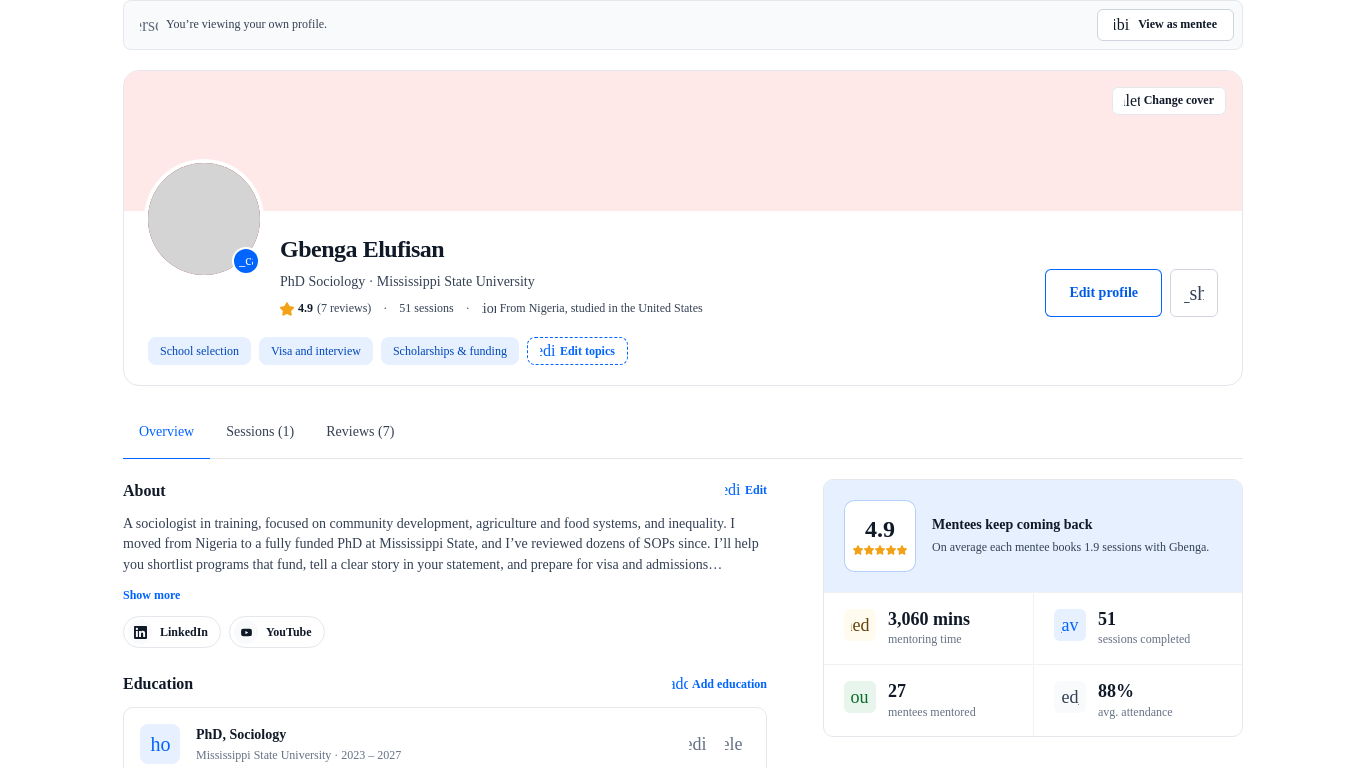
Test: MentorProfileScreen — the owner’s photo › "Remove photo" asks first; "Keep it" keeps it, "Remove photo" removes it (FE #98)
Click the button with aria-label "Photo options" at (246, 261), box x1=234 y1=249 x2=258 y2=273
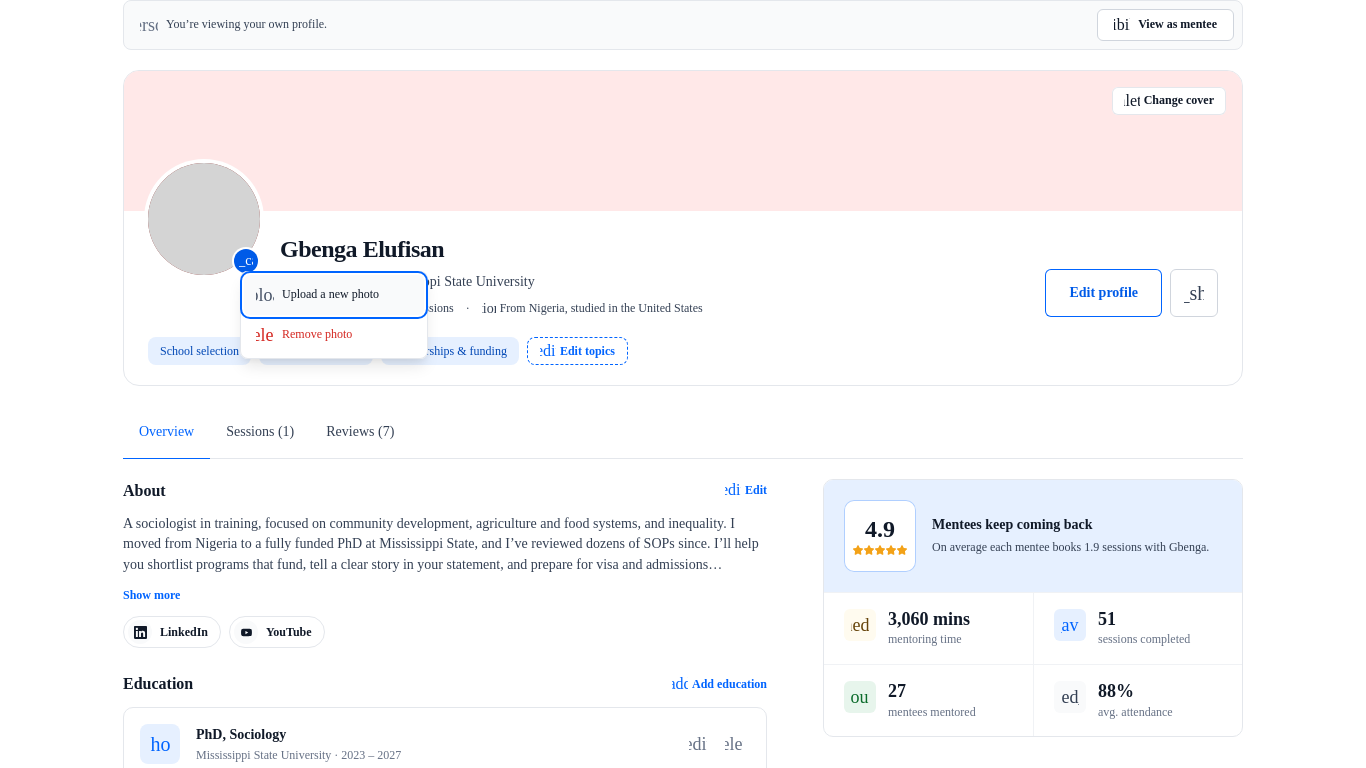
Click the menu item "delete Remove photo" at (334, 335), box x1=244 y1=315 x2=424 y2=355
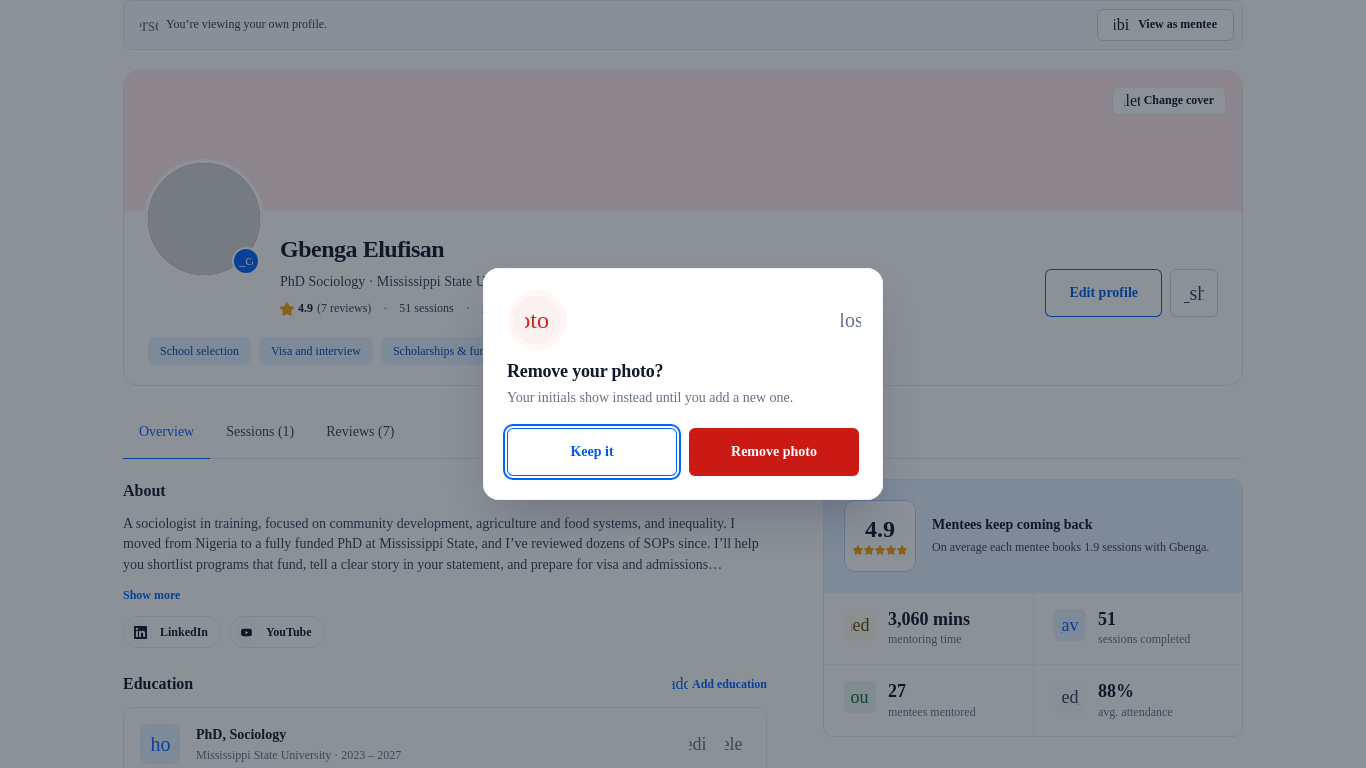
expect the dialog "Remove your photo?" shows "Your initials show instead until you add a new one.": met, box x1=507 y1=390 x2=793 y2=404
Click the button "Keep it" at (592, 452), box x1=507 y1=428 x2=677 y2=476
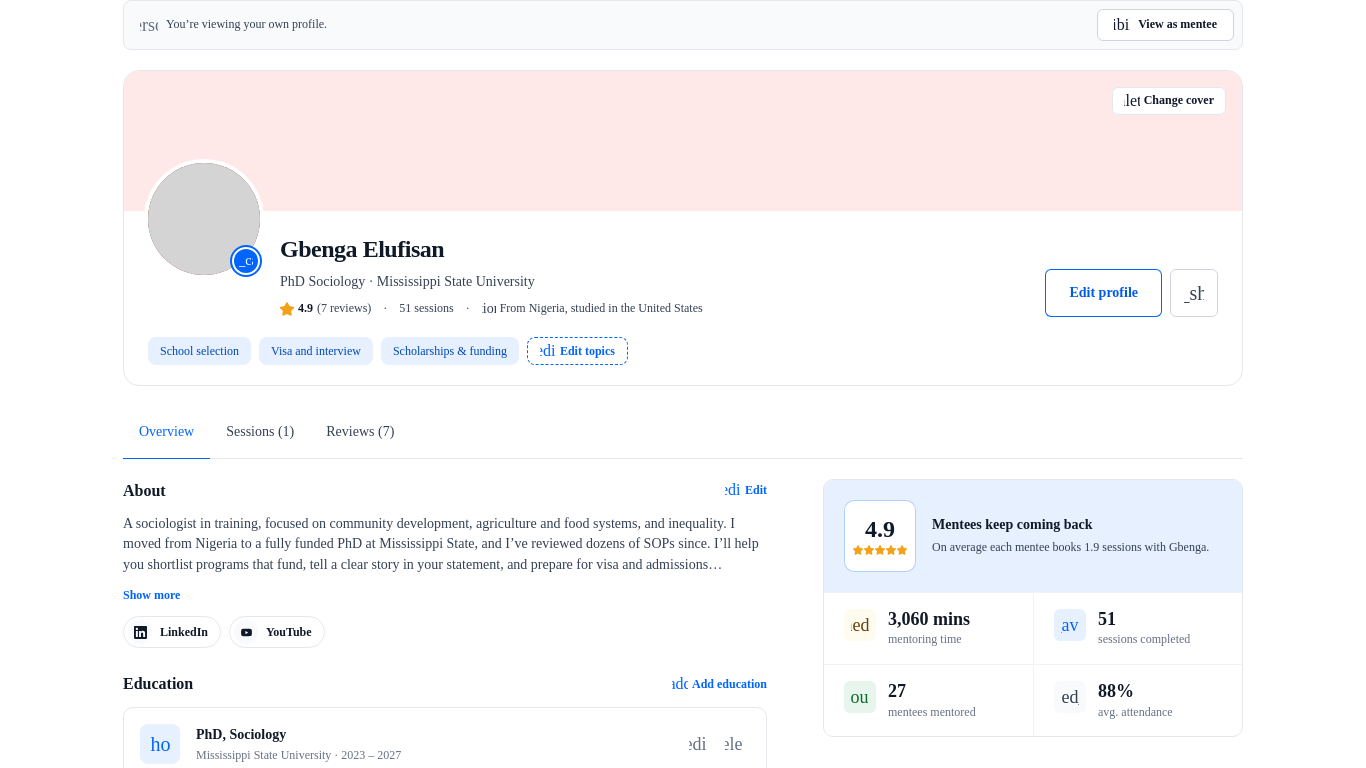
Click the button with aria-label "Photo options" at (246, 261), box x1=234 y1=249 x2=258 y2=273
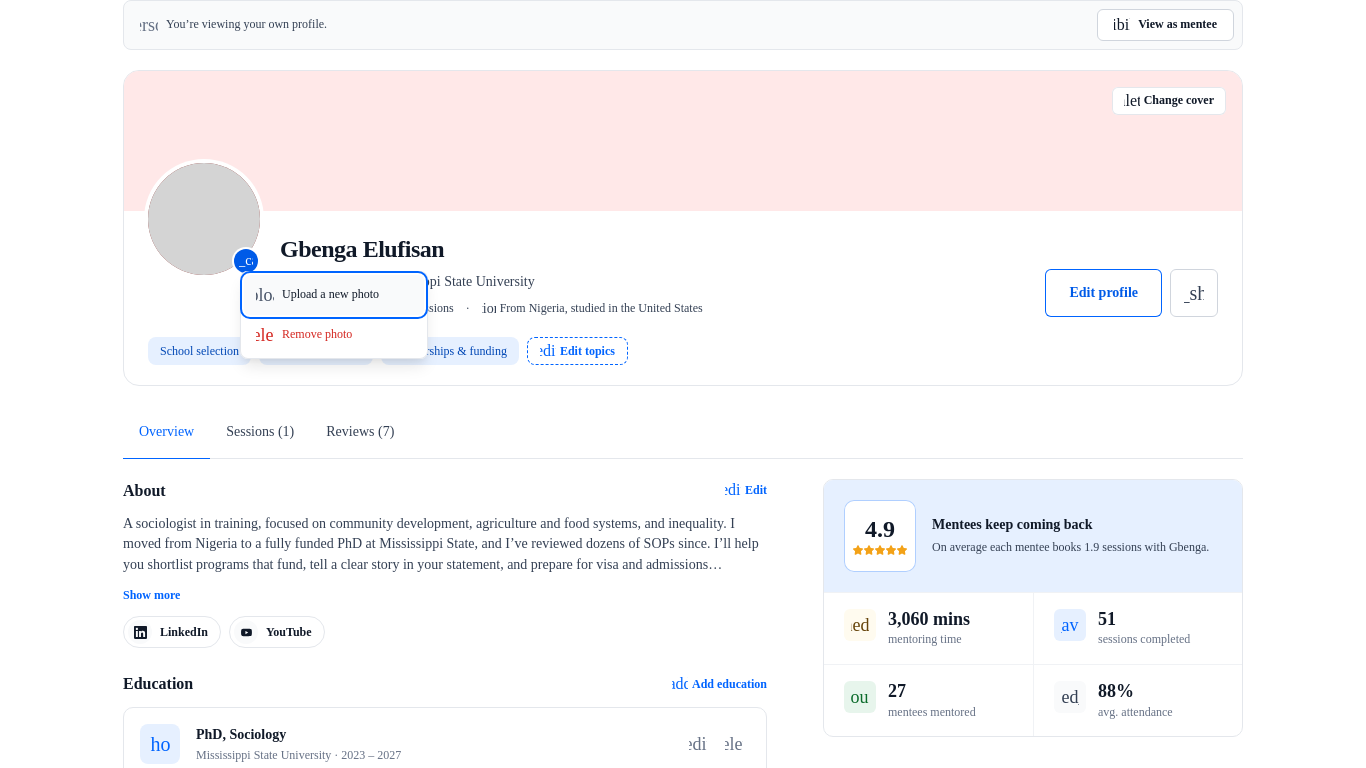
Click the menu item "delete Remove photo" at (334, 335), box x1=244 y1=315 x2=424 y2=355
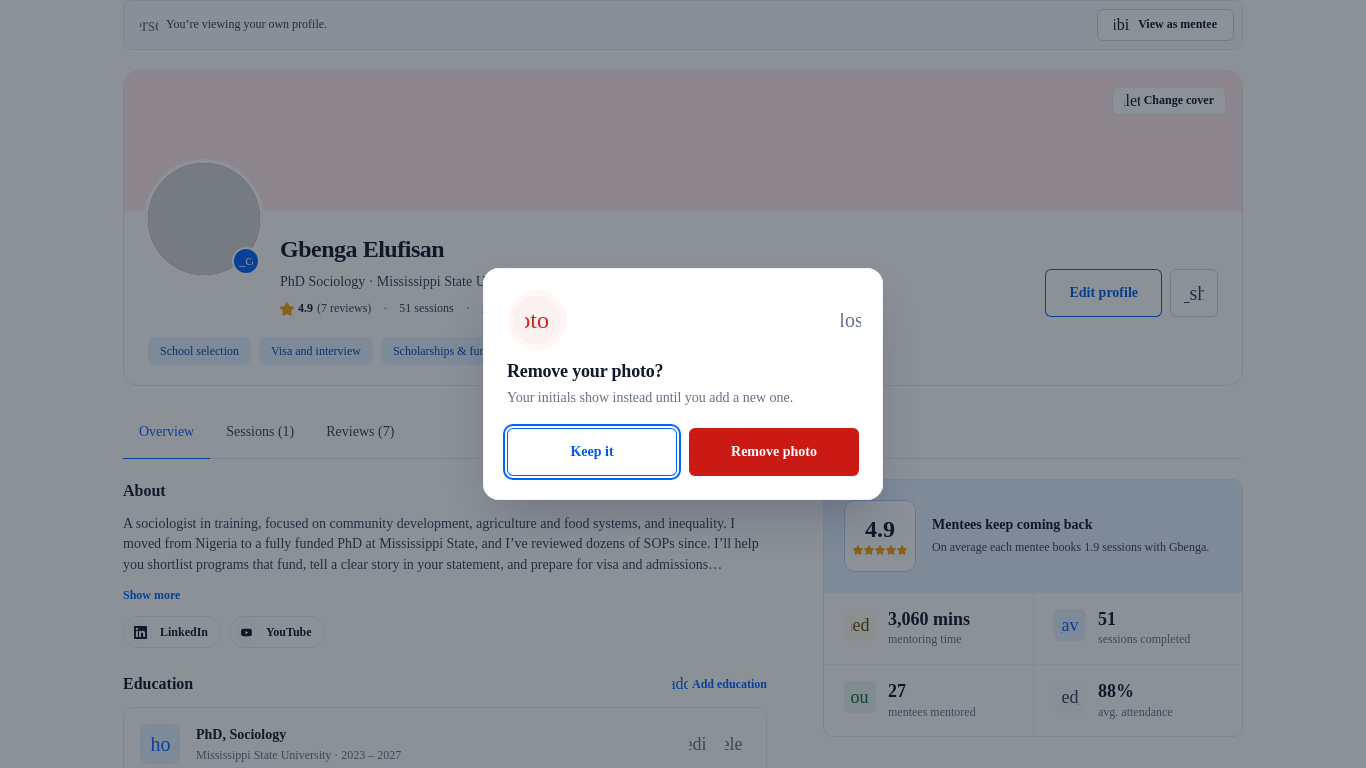
Click the button "Remove photo" at (774, 452), box x1=689 y1=428 x2=859 y2=476
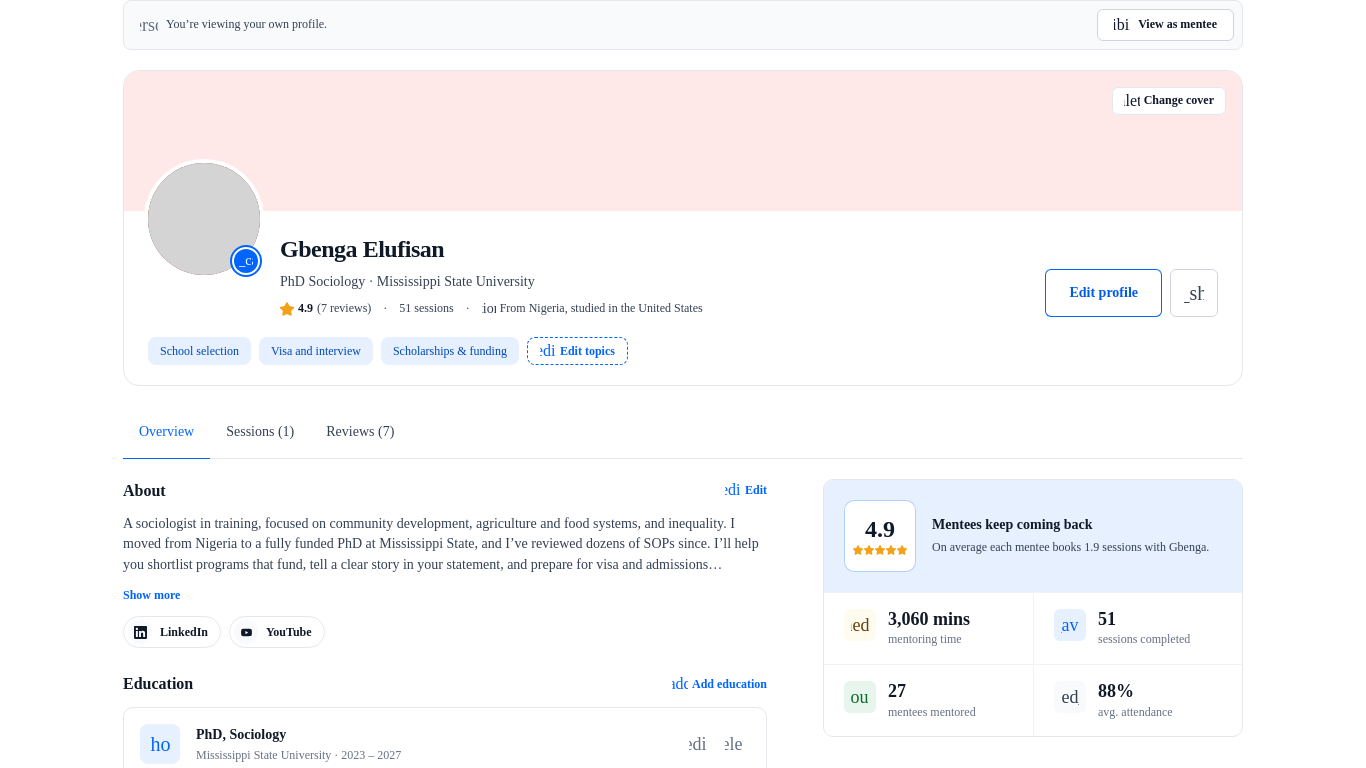
expect the dialog is gone: met
